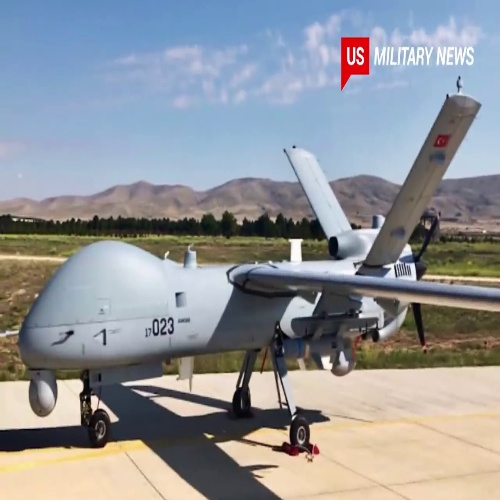uav: (16, 94, 500, 454)
